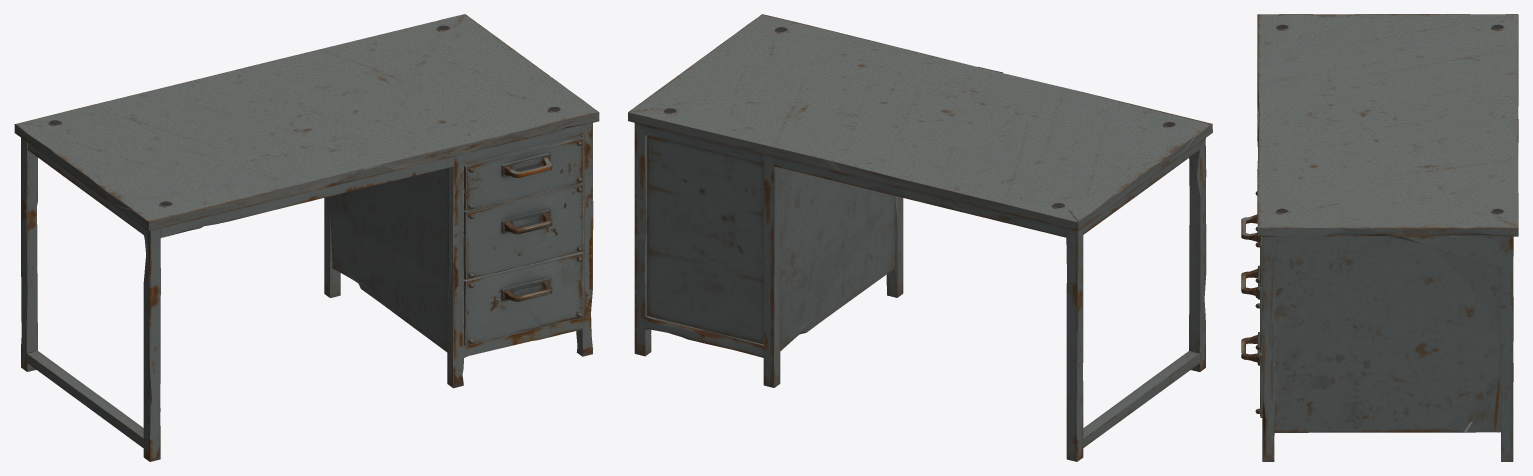
The model's file is scrivania.glb.
The picture shows the model from 3 angles, left to right: view 1: azimuth 30°, elevation 25°; view 2: azimuth 150°, elevation 25°; view 3: azimuth 270°, elevation 25°; orthographic projection. The views are drawn at different scales.
Bounding box in the file's own units: 1.9 × 0.9862 × 1.04.
Materials: 1 (1 with a texture image).
